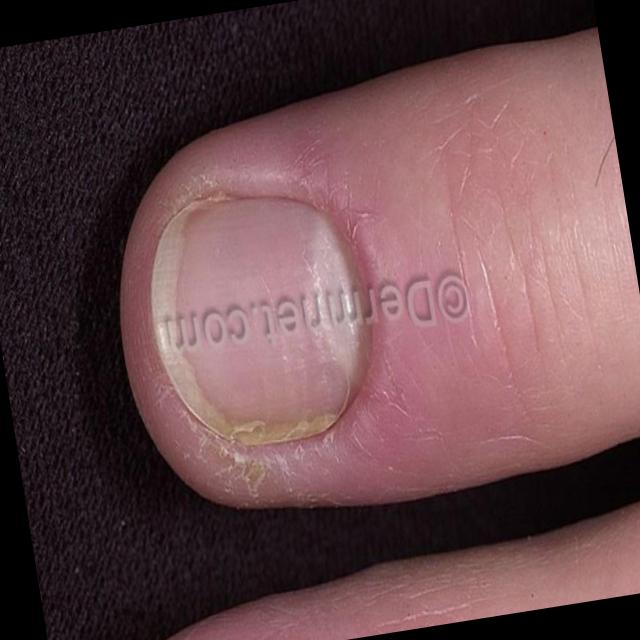Nail: (149, 189, 368, 448)
